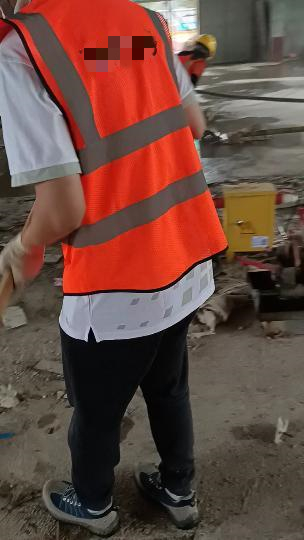helmet: (199, 32, 217, 52)
person: (5, 1, 229, 525)
vest: (9, 10, 231, 276)
